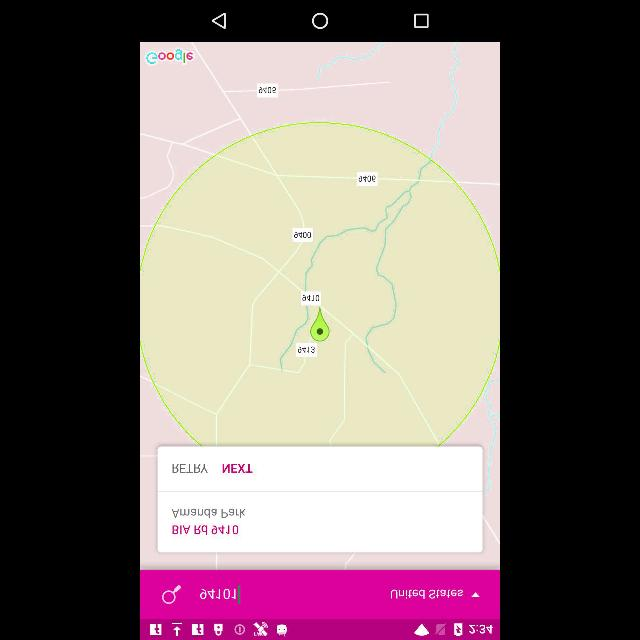icon: (161, 584, 183, 606), (309, 12, 329, 30), (210, 12, 228, 30), (414, 12, 431, 30)
map: (141, 41, 499, 570)
panel: (142, 1, 500, 39)
spinner: (390, 587, 480, 599)
text: (173, 506, 245, 520), (170, 524, 242, 536), (199, 586, 237, 600)
textbutton: (170, 462, 208, 474), (221, 463, 253, 473)
toolbar: (141, 570, 499, 618)
uppertaskbar: (141, 620, 499, 640)
